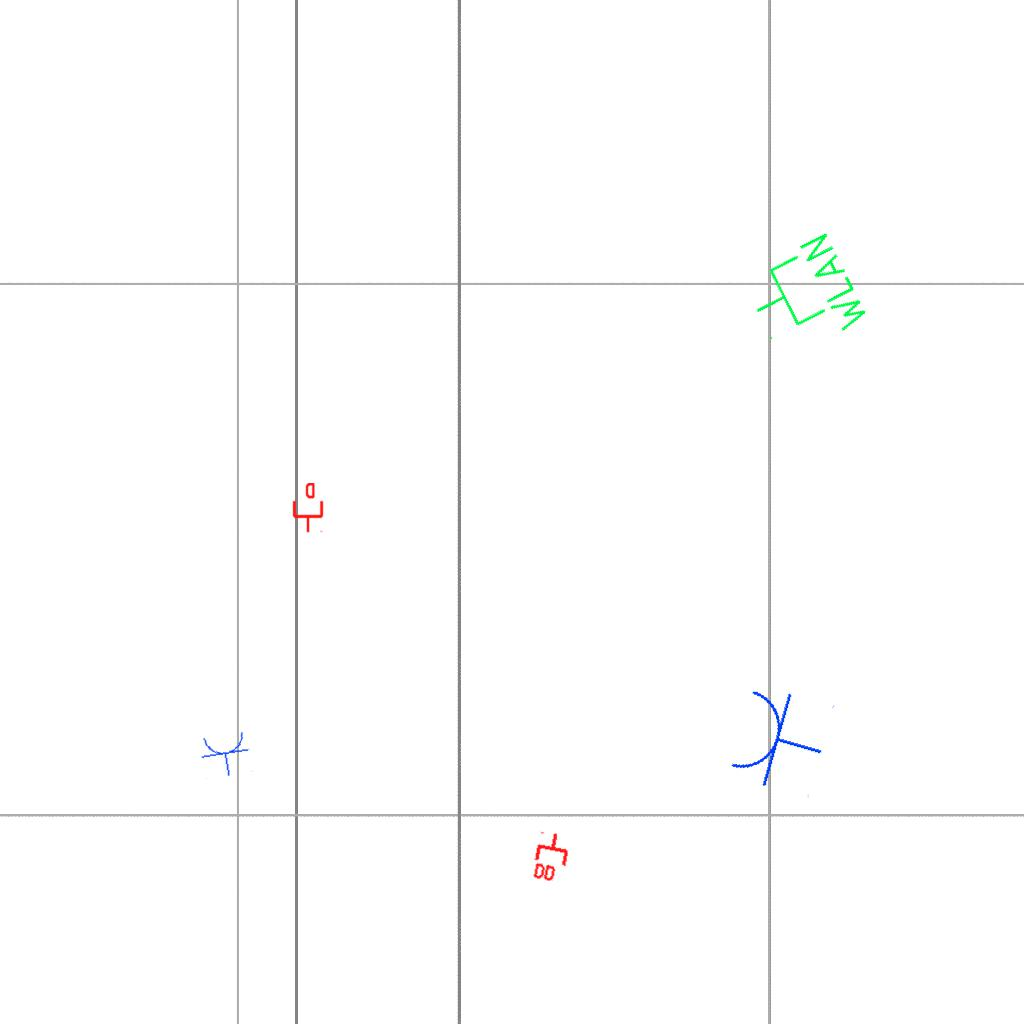Datenanschluss_einfach: (291, 483, 325, 533)
Datenanschluss_zweifach: (530, 829, 574, 886)
Schukosteckdose_einfach: (724, 679, 836, 800), (197, 729, 255, 780)
WLAN: (734, 227, 876, 368)
